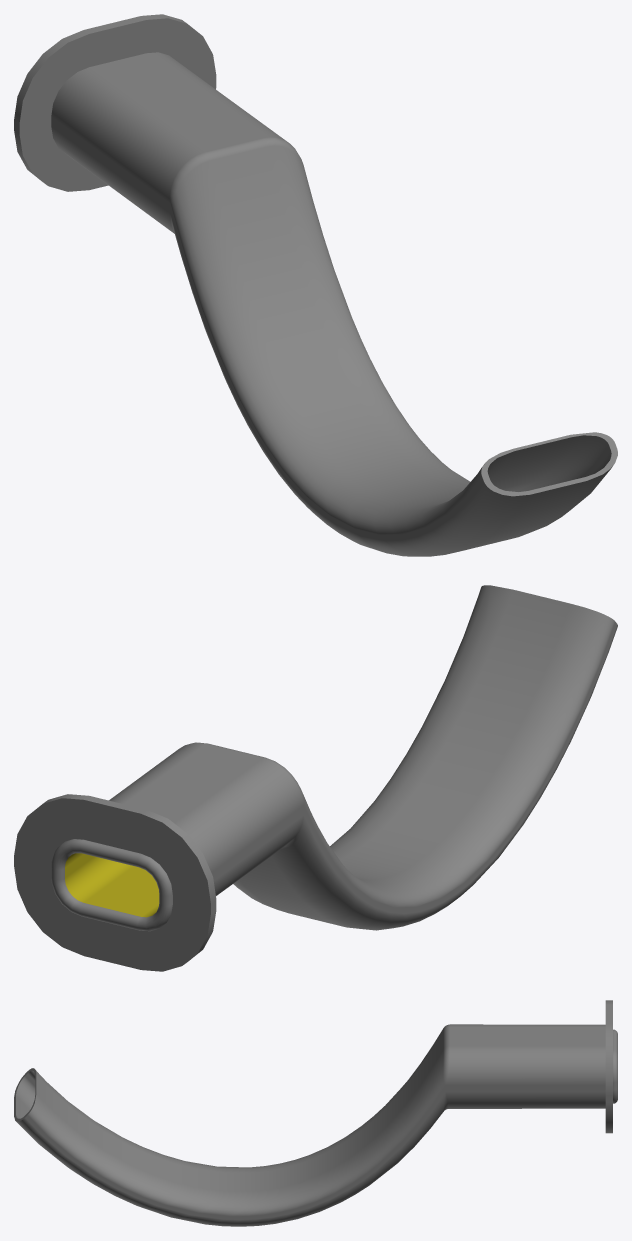
The model's file is canula amarilla.fbx.
3 renders of one model, top to bottom at view 1: azimuth 30°, elevation 25°; view 2: azimuth 150°, elevation 25°; view 3: azimuth 270°, elevation 25°, orthographic. The views are drawn at different scales.
Visible parts, largest first — view 1: Cortar-Extruir1; view 2: Cortar-Extruir1; view 3: Cortar-Extruir1.
Part boxes in pixels (box(x1,y1,x2,y2)): Cortar-Extruir1: box(14, 14, 617, 556); Cortar-Extruir1: box(14, 585, 617, 971); Cortar-Extruir1: box(14, 1000, 617, 1226).
Size of the model in its own units: 2.44 by 3.51 by 9.66.
